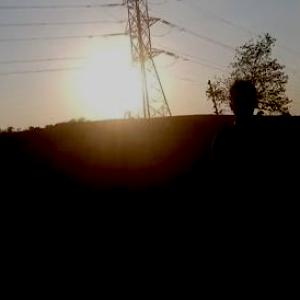follow: (206, 74, 294, 299)
